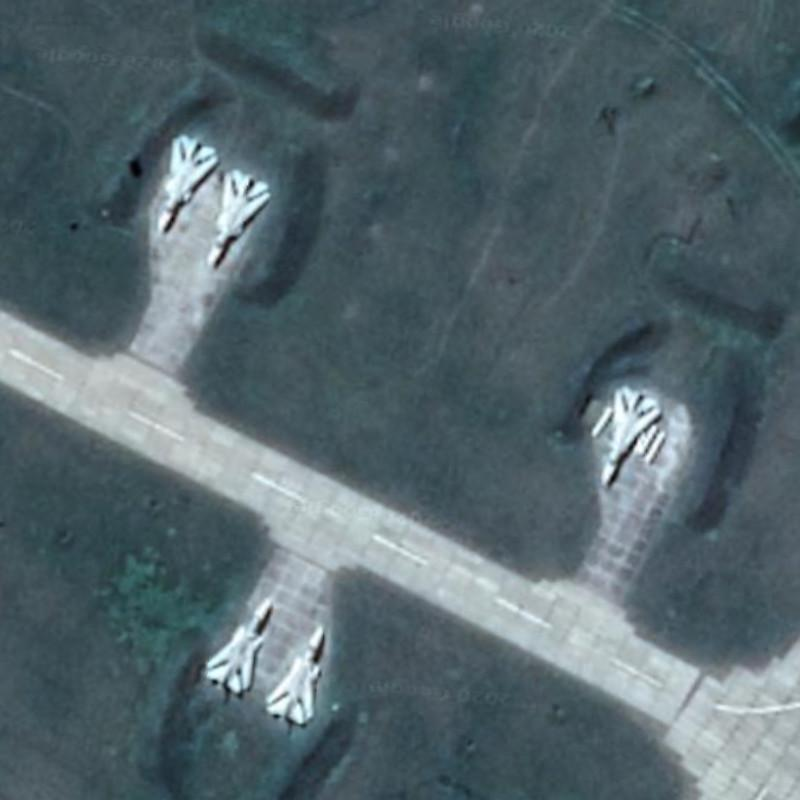A20: (594, 377, 669, 495), (202, 595, 274, 698), (151, 124, 214, 237), (264, 618, 326, 732), (206, 168, 273, 271)
